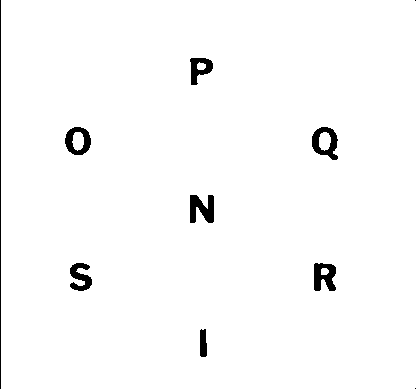I: (193, 324, 216, 363)
